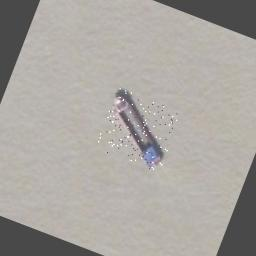boat: (94, 88, 184, 174)
